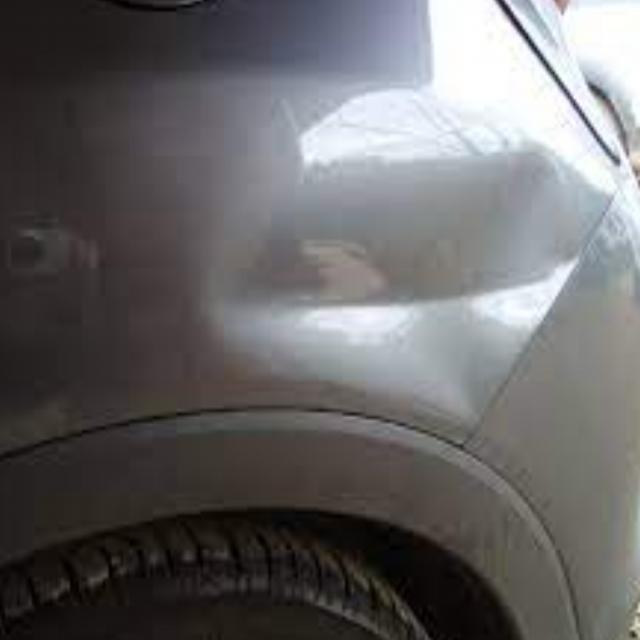dents: (253, 232, 580, 380)
